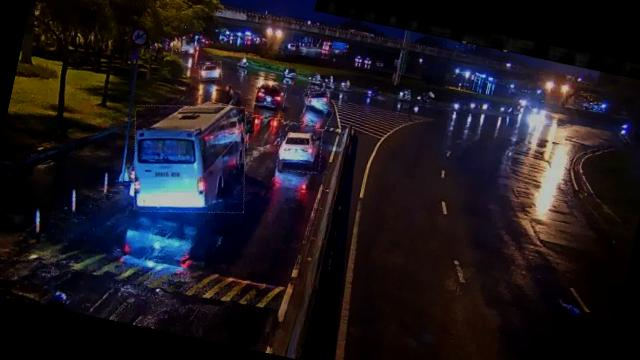Bus: (120, 90, 259, 226)
Car: (274, 118, 327, 176), (300, 99, 334, 130), (254, 80, 287, 110), (302, 86, 332, 114), (197, 58, 224, 84)
